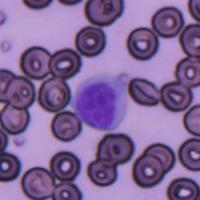L: (72, 74, 129, 131)
